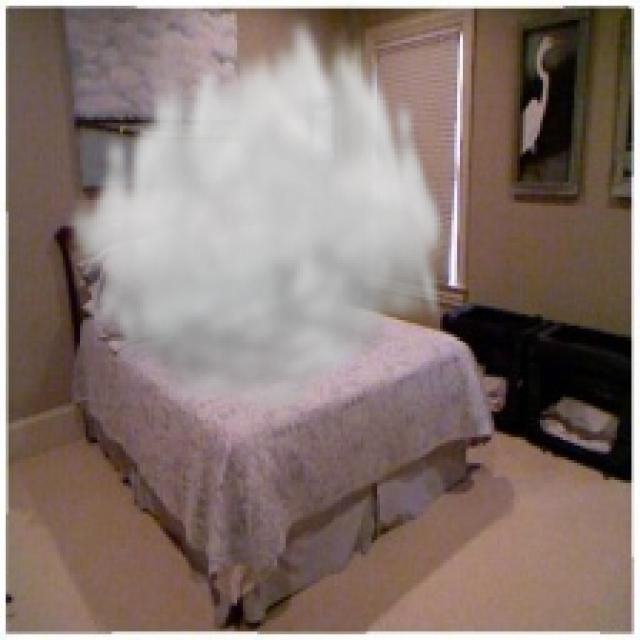smoke: (63, 3, 448, 420)
